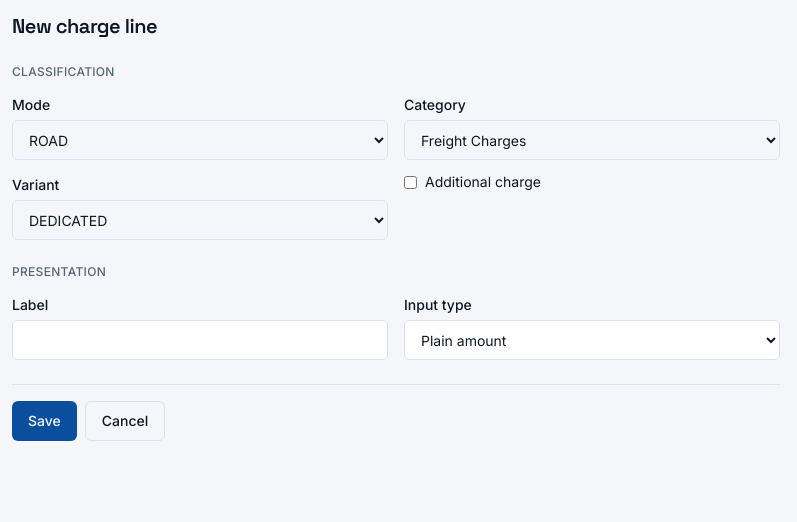
Test: ChargeLineFormPage › surfaces the server's error message instead of failing silently
Type "Wharfage Charges" into the field labelled "Label" at (200, 340), box [12,320,388,360]
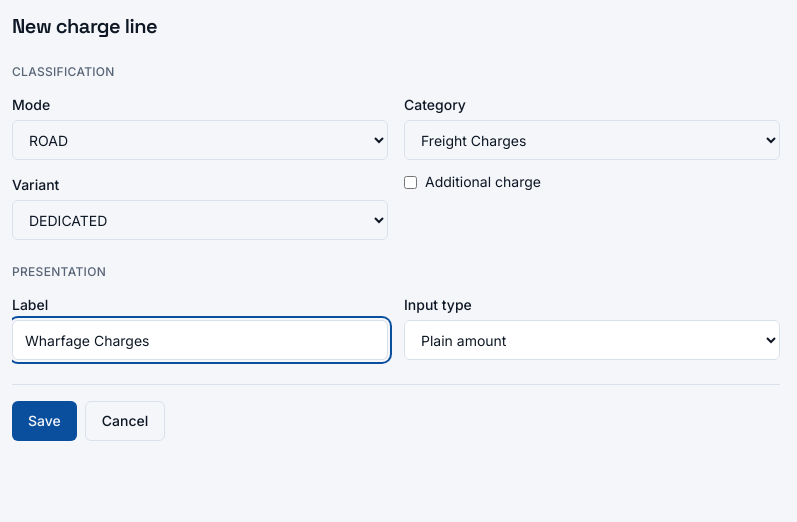
Click the button "Save" at (44, 421), box [12,401,77,441]
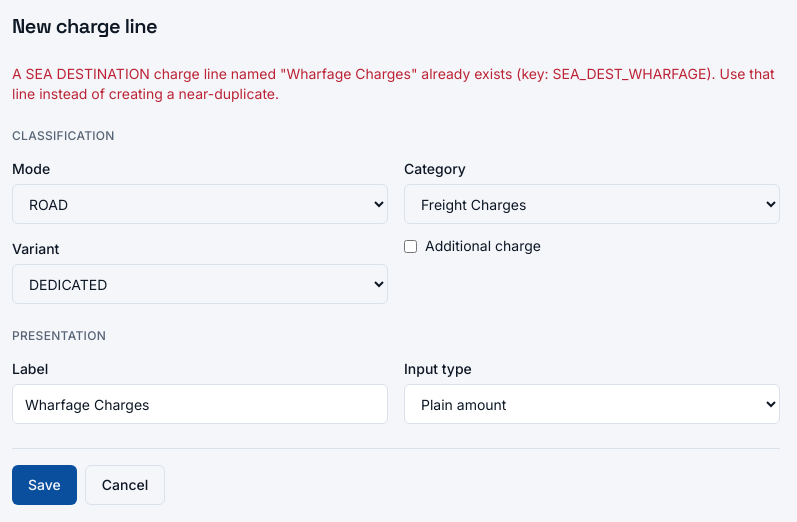
Result: the text "already exists" is shown at [12,65,775,102]
